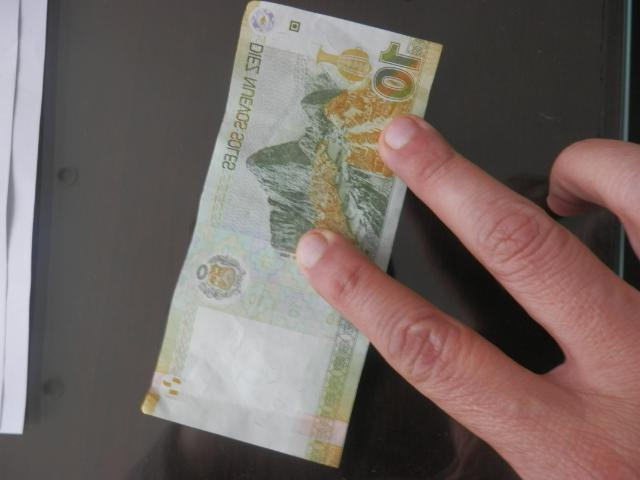B10: (142, 2, 442, 467)
